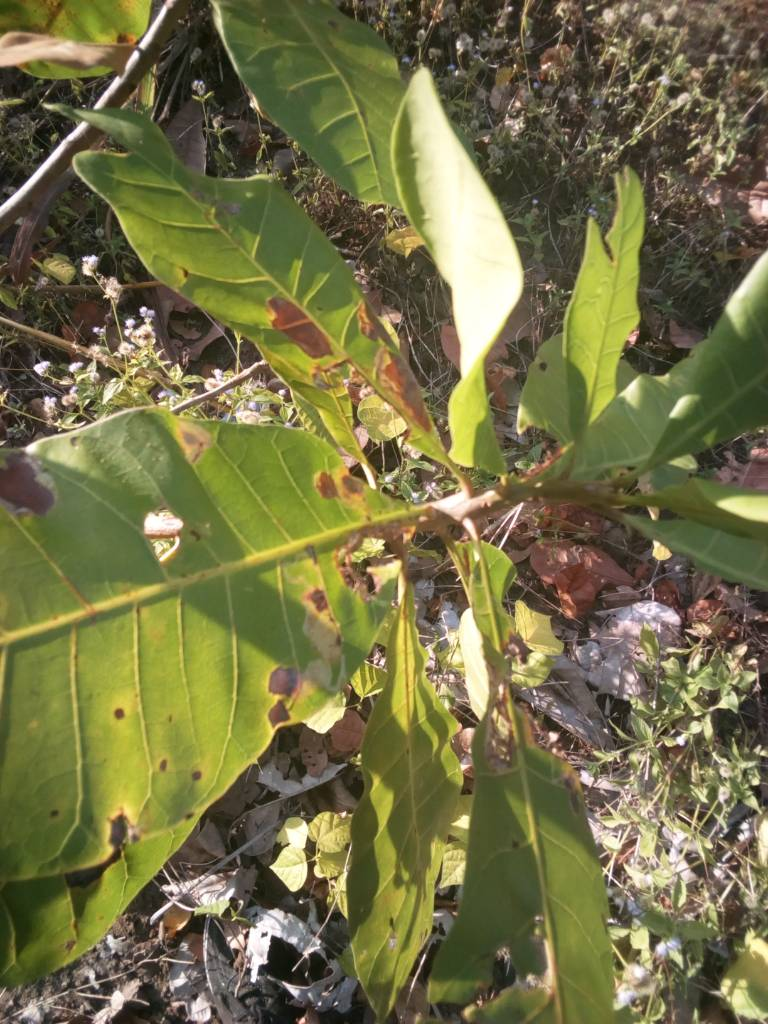Bactériose: (1, 435, 393, 833), (230, 263, 433, 455)
